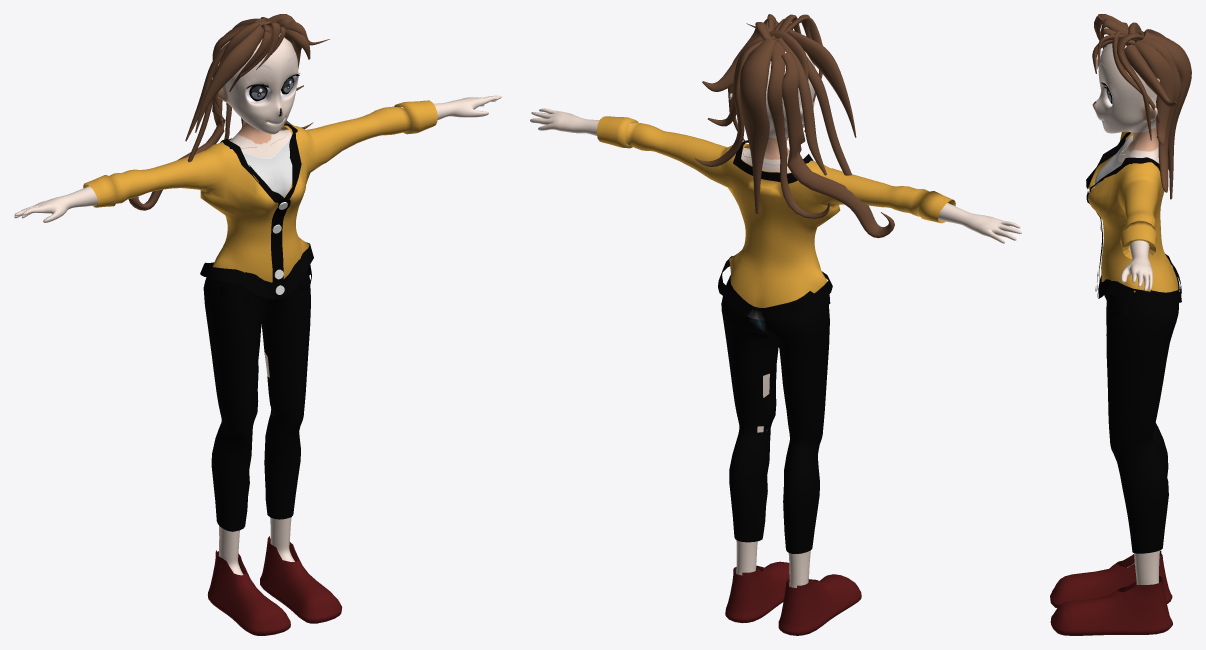
File: Lina Byte_2.fbx
3 views of the same model, side by side, from view 1: azimuth 30°, elevation 25°; view 2: azimuth 150°, elevation 25°; view 3: azimuth 270°, elevation 25° (orthographic).
Parts seen in each view (by area): view 1: jeans, lowerShirt, body, shoes, frontHair, collar, upperShirt; view 2: jeans, lowerShirt, frontHair, shoes, body, collar; view 3: jeans, shoes, lowerShirt, frontHair, body, collar, upperShirt.
Part boxes in pixels (x1=…): jeans: x1=203, y1=263, x2=311, y2=531; lowerShirt: x1=83, y1=100, x2=437, y2=282; body: x1=14, y1=33, x2=501, y2=575; shoes: x1=207, y1=536, x2=342, y2=635; frontHair: x1=128, y1=14, x2=329, y2=210; collar: x1=200, y1=123, x2=313, y2=299; upperShirt: x1=242, y1=135, x2=292, y2=196; jeans: x1=721, y1=273, x2=830, y2=553; lowerShirt: x1=597, y1=116, x2=955, y2=307; frontHair: x1=694, y1=14, x2=894, y2=238; shoes: x1=725, y1=561, x2=861, y2=635; body: x1=530, y1=51, x2=1021, y2=587; collar: x1=718, y1=140, x2=832, y2=320; jeans: x1=1101, y1=269, x2=1179, y2=553; shoes: x1=1050, y1=550, x2=1172, y2=635; lowerShirt: x1=1088, y1=131, x2=1178, y2=292; frontHair: x1=1092, y1=14, x2=1191, y2=199; body: x1=1092, y1=43, x2=1159, y2=584; collar: x1=1086, y1=132, x2=1181, y2=305; upperShirt: x1=1094, y1=136, x2=1129, y2=187.
Bounding box in the file's own units: 155 × 179 × 38.61.
9 materials, 3 textured.
